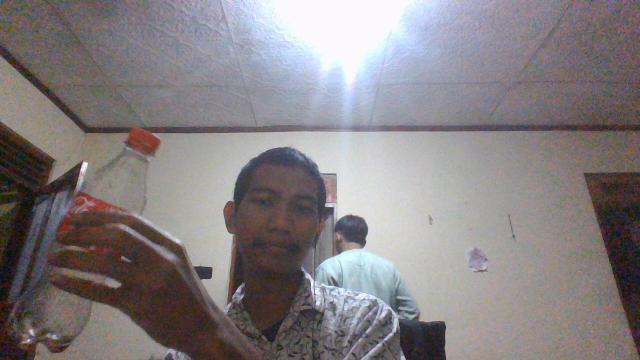coca-cola: (7, 126, 162, 354)
